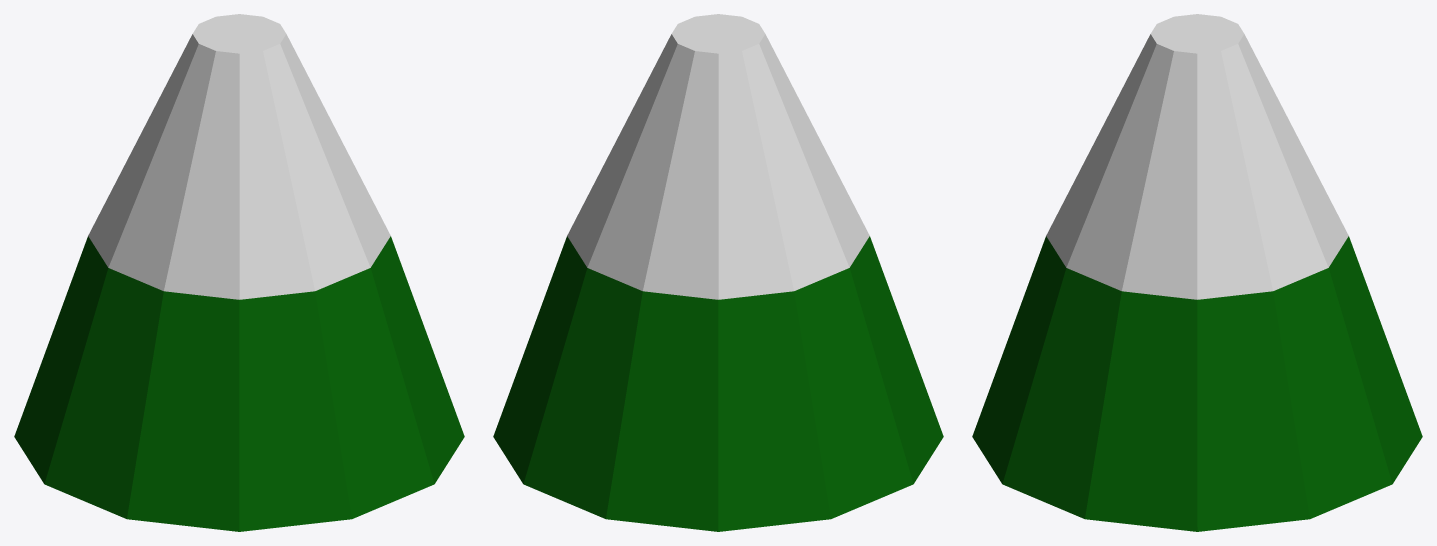
Rendered from Prop_Industrial_Rocket_Head_02.FBX.
The picture shows the model from 3 angles, left to right: view 1: azimuth 30°, elevation 25°; view 2: azimuth 150°, elevation 25°; view 3: azimuth 270°, elevation 25°; orthographic projection.
Visible parts, largest first — view 1: Prop_Industrial_Rocket_Head_02; view 2: Prop_Industrial_Rocket_Head_02; view 3: Prop_Industrial_Rocket_Head_02.
Part boxes in pixels (x1,y1,x2,y2): Prop_Industrial_Rocket_Head_02: (14,14,464,531); Prop_Industrial_Rocket_Head_02: (493,14,943,531); Prop_Industrial_Rocket_Head_02: (972,14,1422,531).
Bounding box in the file's own units: 1538 × 1518 × 1538.
